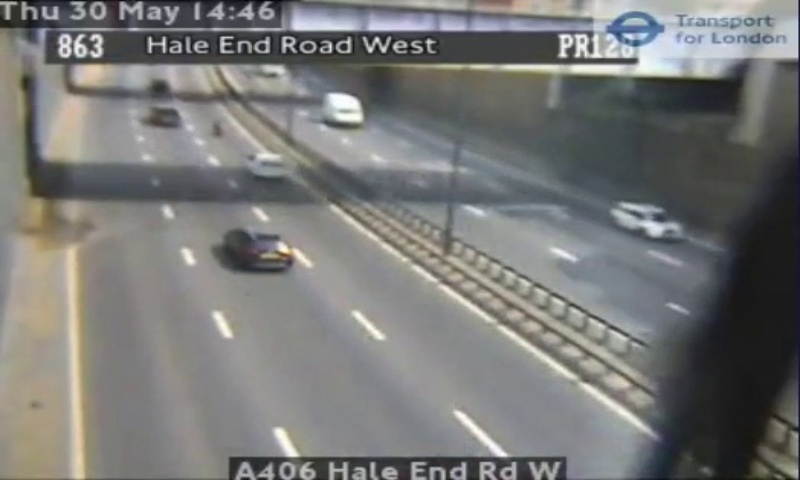car: (222, 228, 291, 266)
